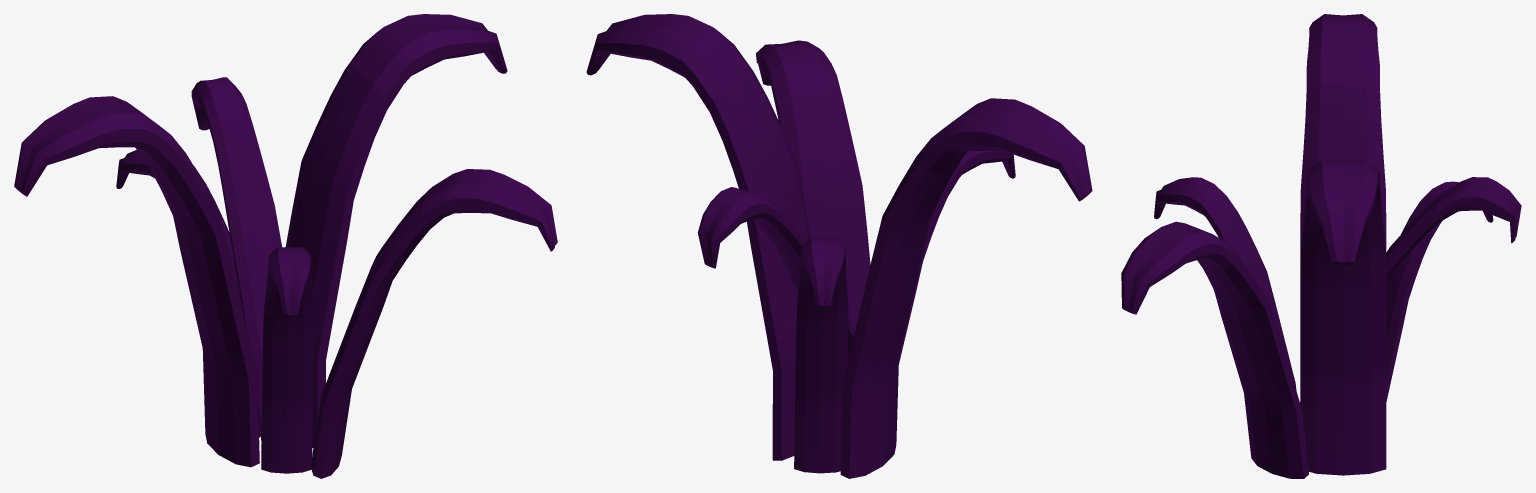
The model's file is Plant.fbx.
3 renders of one model, left to right at view 1: azimuth 30°, elevation 25°; view 2: azimuth 150°, elevation 25°; view 3: azimuth 270°, elevation 25°, orthographic. The views are drawn at different scales.
Visible parts, largest first — view 1: Plant3; view 2: Plant3; view 3: Plant3.
Boxes of the visible parts, <box> form: Plant3: <box>14,14,557,478</box>; Plant3: <box>586,14,1092,478</box>; Plant3: <box>1121,14,1521,478</box>.
Size of the model in its own units: 2.14 by 1.64 by 1.64.
